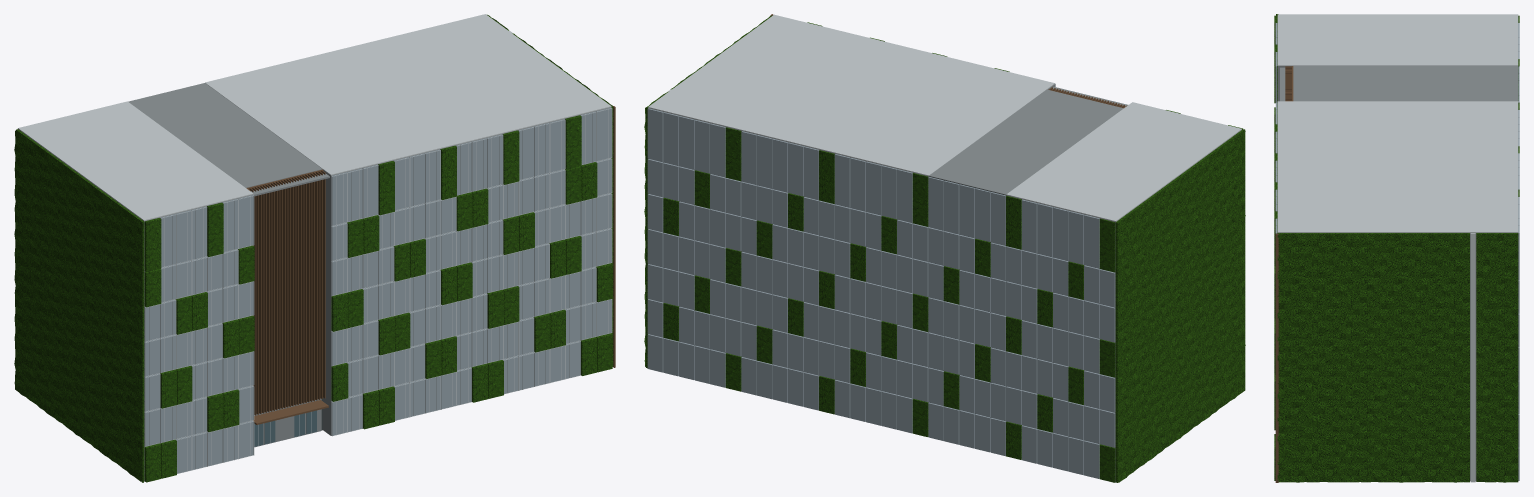
Rendered from data-centre.glb.
3 views of the same model, side by side, from view 1: azimuth 30°, elevation 25°; view 2: azimuth 150°, elevation 25°; view 3: azimuth 270°, elevation 25° (orthographic). The views are drawn at different scales.
Visible parts, largest first — view 1: Anodised_silver_screens_architecture, Aluminium_frame_edges_architecture, Living_wall_foliage_architecture, Living_wall_foliage_detail, Silver_screens_-_alternate_architecture, Aluminium_frame_edges_detail, Brown_bronze_vertical_fins_detail, Concrete_and_roof_architecture, Brown_bronze_vertical_fins_architecture, Entrance_glazing_-_opaque_architecture; view 2: Silver_screens_-_alternate_architecture, Aluminium_frame_edges_architecture, Living_wall_foliage_detail, Living_wall_foliage_architecture, Concrete_and_roof_architecture; view 3: Living_wall_foliage_detail, Aluminium_frame_edges_architecture, Concrete_and_roof_architecture, Living_wall_foliage_architecture, Brown_bronze_vertical_fins_architecture, Silver_screens_-_alternate_architecture.
Part boxes in pixels (bbox=[...]): Anodised_silver_screens_architecture: bbox=[144, 108, 611, 473]; Aluminium_frame_edges_architecture: bbox=[18, 14, 611, 221]; Living_wall_foliage_architecture: bbox=[16, 14, 613, 482]; Living_wall_foliage_detail: bbox=[14, 15, 612, 481]; Silver_screens_-_alternate_architecture: bbox=[144, 126, 611, 469]; Aluminium_frame_edges_detail: bbox=[145, 108, 612, 473]; Brown_bronze_vertical_fins_detail: bbox=[247, 170, 325, 415]; Concrete_and_roof_architecture: bbox=[128, 83, 610, 481]; Brown_bronze_vertical_fins_architecture: bbox=[246, 106, 615, 424]; Entrance_glazing_-_opaque_architecture: bbox=[254, 410, 316, 446]; Silver_screens_-_alternate_architecture: bbox=[647, 84, 1115, 478]; Aluminium_frame_edges_architecture: bbox=[648, 14, 1241, 221]; Living_wall_foliage_detail: bbox=[644, 16, 1245, 482]; Living_wall_foliage_architecture: bbox=[646, 15, 1245, 482]; Concrete_and_roof_architecture: bbox=[648, 85, 1123, 482]; Living_wall_foliage_detail: bbox=[1277, 234, 1518, 482]; Aluminium_frame_edges_architecture: bbox=[1277, 14, 1518, 482]; Concrete_and_roof_architecture: bbox=[1278, 65, 1517, 481]; Living_wall_foliage_architecture: bbox=[1274, 14, 1519, 480]; Brown_bronze_vertical_fins_architecture: bbox=[1275, 66, 1293, 482]; Silver_screens_-_alternate_architecture: bbox=[1276, 23, 1519, 480].
Size of the model in its own units: 60.98 by 32.1 by 28.62.
8 materials, 3 textured.
